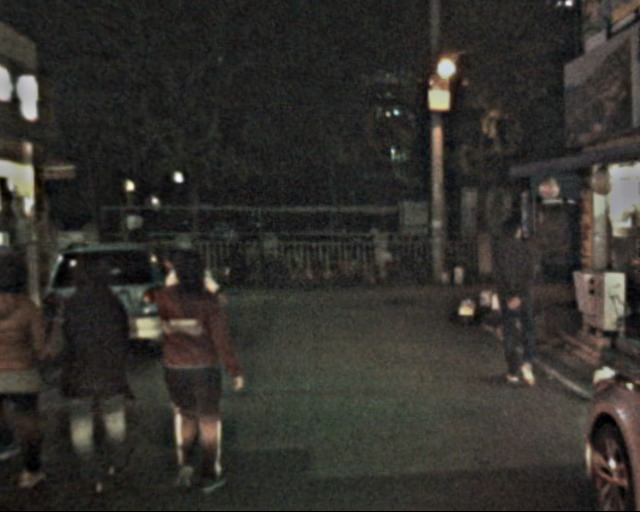person: (136, 246, 230, 499), (53, 239, 147, 488), (482, 211, 546, 394), (1, 249, 48, 494), (166, 237, 225, 404)
